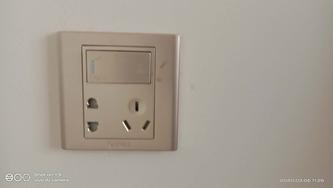switch: (84, 47, 155, 85)
